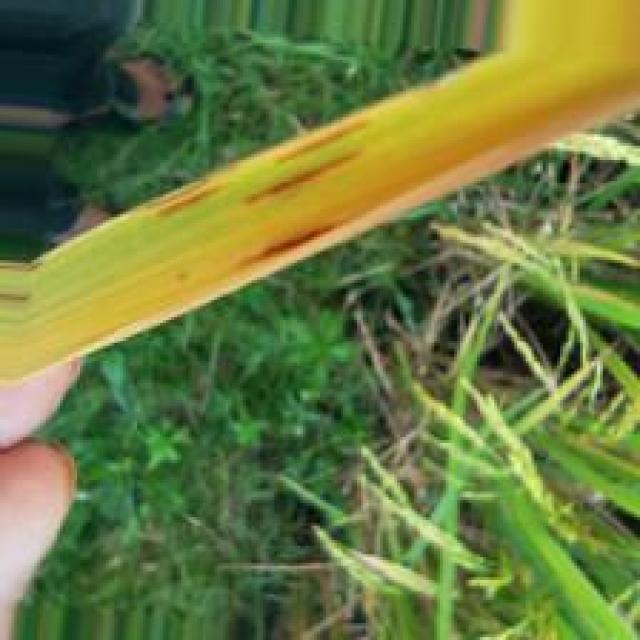Narrow_Brown_Leaf_Spot: (233, 150, 369, 210), (136, 159, 246, 221), (268, 112, 372, 166), (245, 219, 339, 273)
